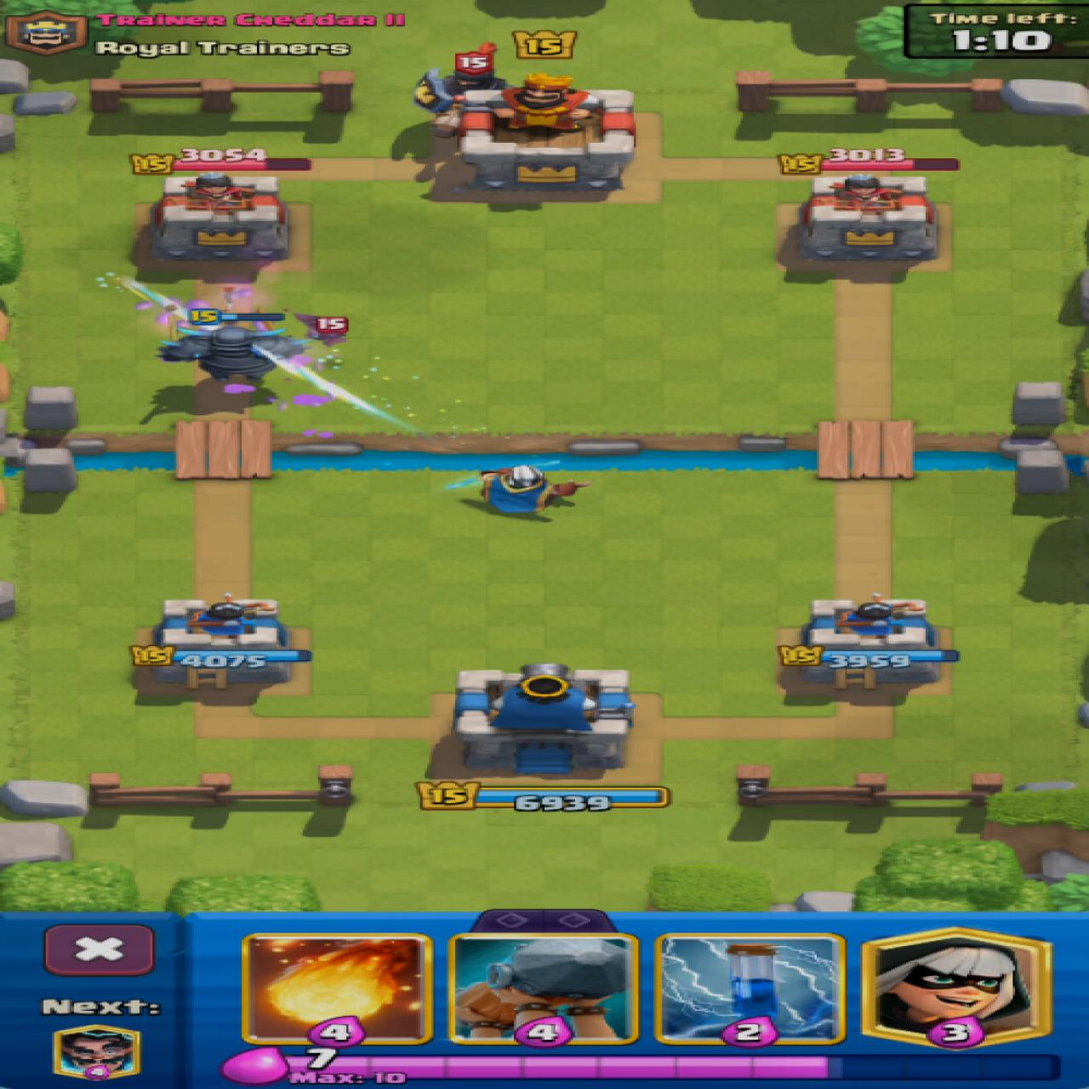Enemy-Bat: (294, 314, 346, 346)
Enemy-DarkPrince-Shield: (416, 43, 507, 137)
Enemy-KingTower: (457, 77, 634, 193)
Enemy-PrincessTower: (148, 171, 287, 261), (799, 174, 934, 258)
